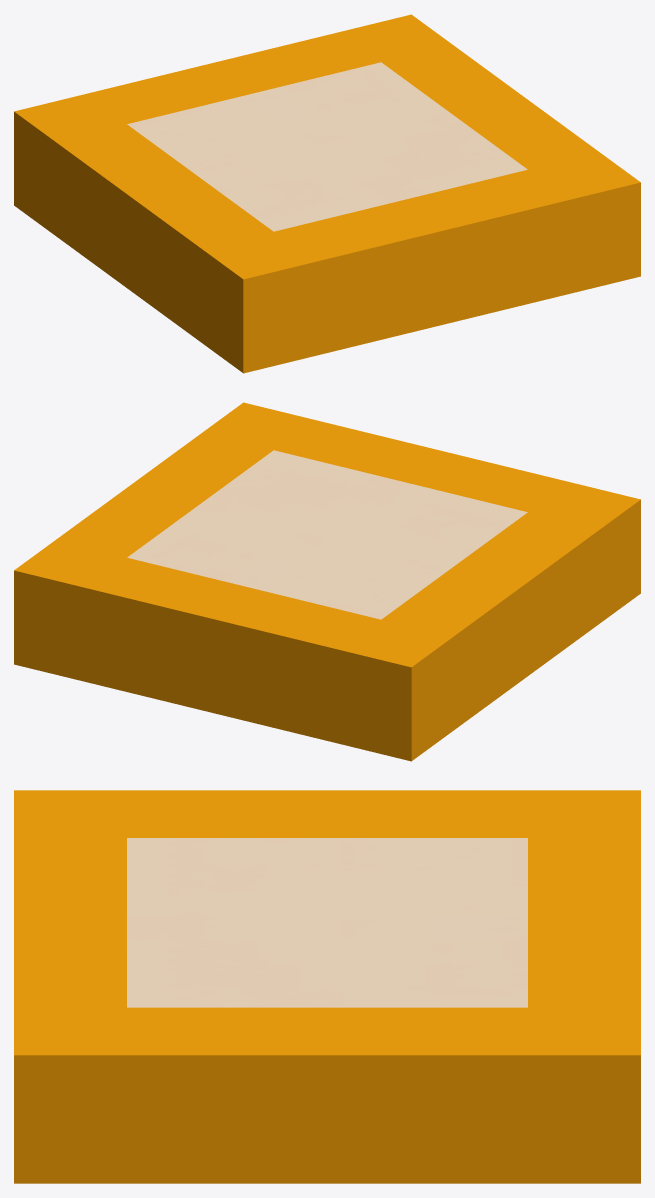
The model's file is bread.fbx.
3 renders of one model, top to bottom at view 1: azimuth 30°, elevation 25°; view 2: azimuth 150°, elevation 25°; view 3: azimuth 270°, elevation 25°, orthographic. The views are drawn at different scales.
Parts seen in each view (by area): view 1: Object002; view 2: Object002; view 3: Object002.
Part boxes in pixels (x1,y1,x2,y2): Object002: (14, 14, 640, 373); Object002: (14, 402, 640, 761); Object002: (14, 790, 640, 1183).
Bounding box in the file's own units: 21.91 × 4.95 × 21.91.
1 material, 1 textured.
